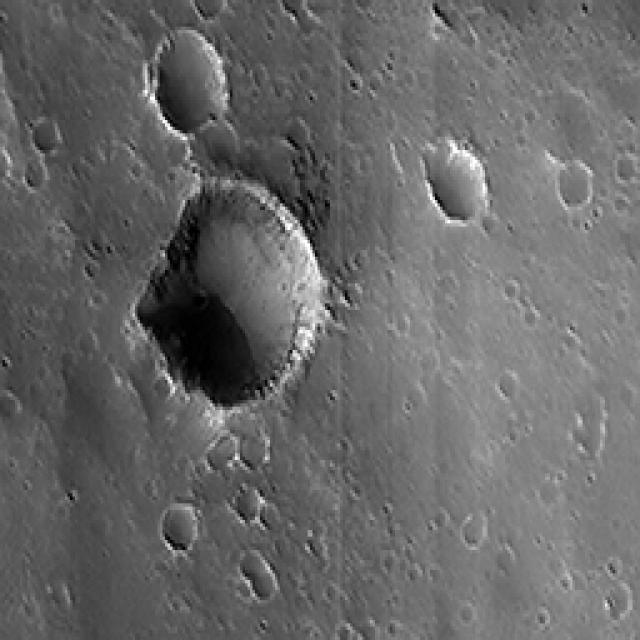Crater: (127, 177, 335, 413), (142, 27, 240, 146), (427, 136, 495, 236)
